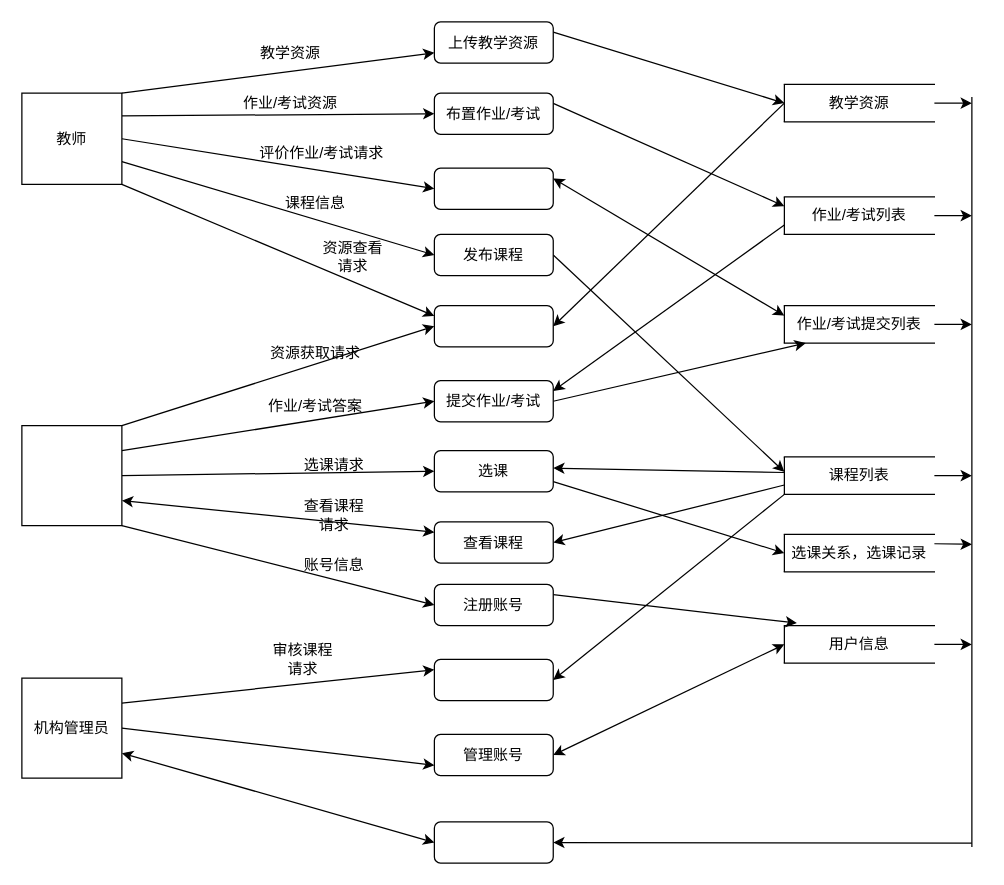
Image size: 1004x885. Some labels were removed from this diagram. Each missing label, with the centre of its shape:
"学生" belongs at (x=71, y=475).
"审核课程" belongs at (x=493, y=679).
"数据统计" belongs at (x=493, y=842).
"查看教学资源" belongs at (x=493, y=325).
"评价作业/考试" belongs at (x=493, y=188).
